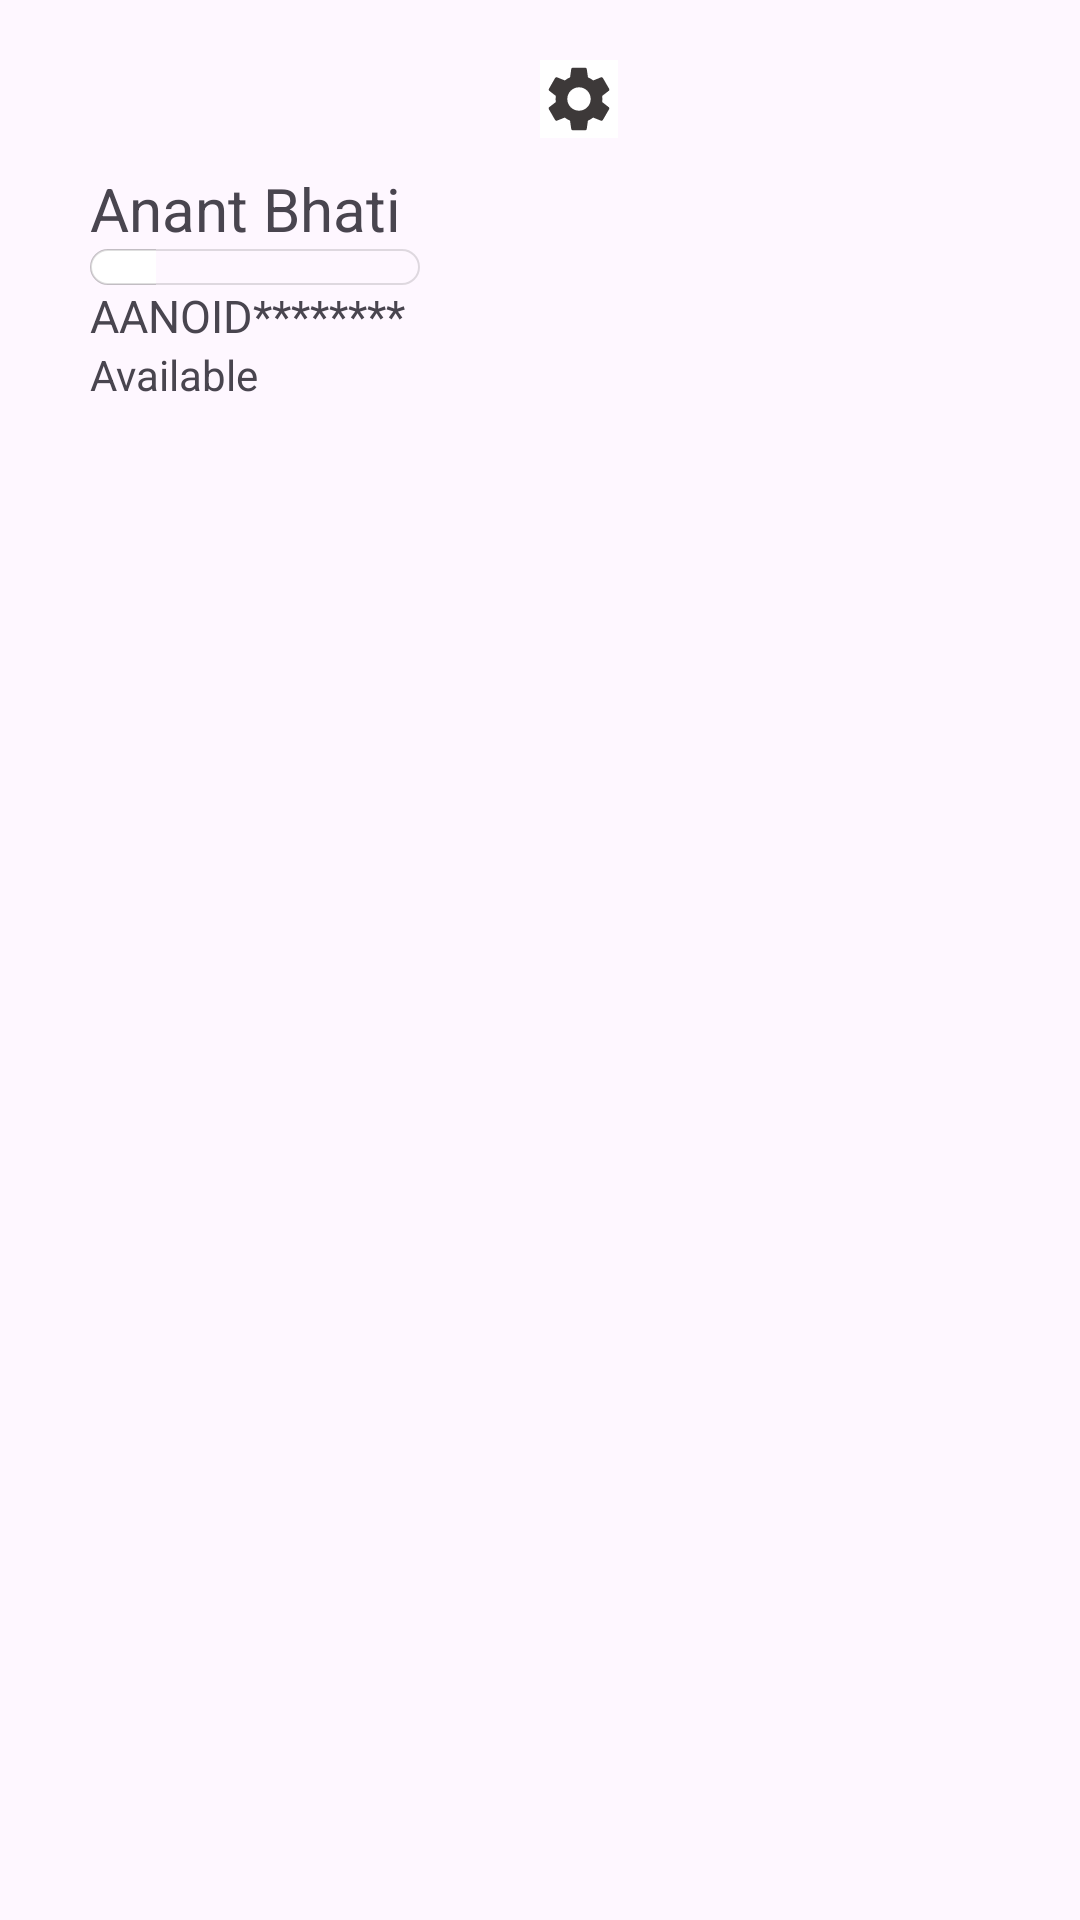

Icon bounding boxes for this 1080 × 1920 phone screenshot, format box(x1, y1, x2, y2):
settings: box(548, 67, 610, 131)
